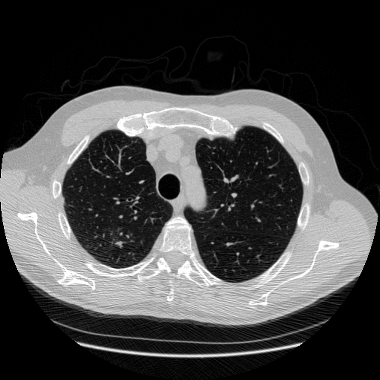nodule: (116, 240, 122, 246)
